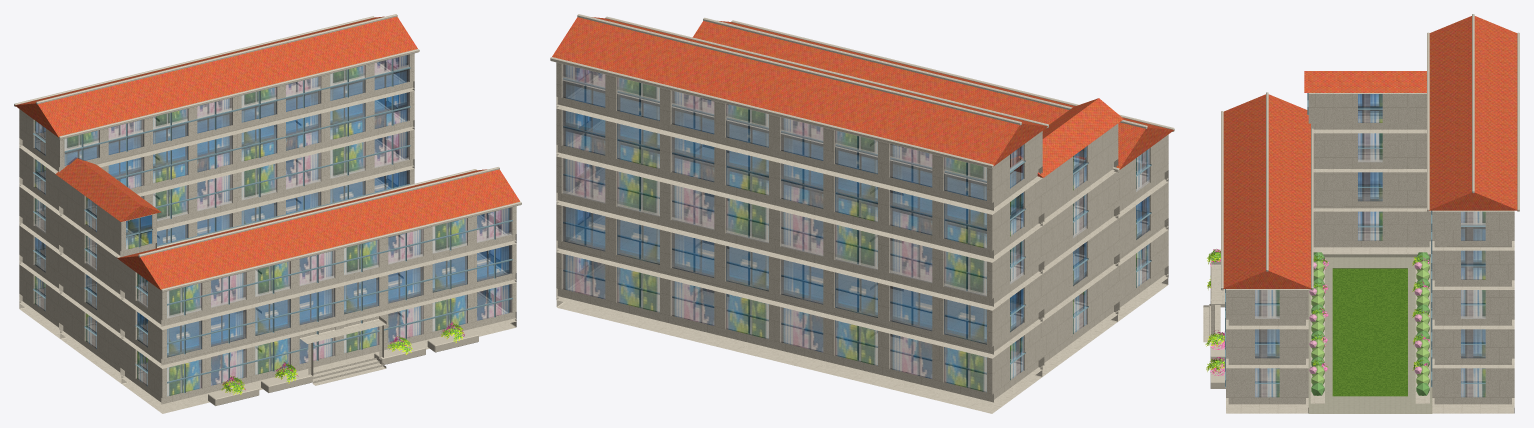
File: B05_red_roof_v2.glb
3 renders of one model, left to right at view 1: azimuth 30°, elevation 25°; view 2: azimuth 150°, elevation 25°; view 3: azimuth 270°, elevation 25°, orthographic. The views are drawn at different scales.
Visible parts, largest first — view 1: GAME_V2_Pixel_limestone, GAME_V2_Glass_reflection, GAME_V2_Terracotta, GAME_V2_Limestone, GAME_蓝灰窗框, GAME_V2_Leaf_cutout; view 2: GAME_V2_Pixel_limestone, GAME_V2_Glass_reflection, GAME_V2_Terracotta, GAME_V2_Limestone, GAME_蓝灰窗框; view 3: GAME_V2_Pixel_limestone, GAME_V2_Terracotta, GAME_grass, GAME_V2_Glass_reflection, GAME_V2_Pixel_paving, GAME_V2_Limestone, GAME_绿植高光, GAME_蓝灰窗框, GAME_绿植, GAME_V2_Leaf_cutout, GAME_V2_Blossom_cutout, GAME_花朵.
Boxes of the visible parts, x1=… form: GAME_V2_Pixel_limestone: x1=19, y1=53, x2=516, y2=413; GAME_V2_Glass_reflection: x1=34, y1=55, x2=511, y2=396; GAME_V2_Terracotta: x1=15, y1=16, x2=519, y2=290; GAME_V2_Limestone: x1=14, y1=14, x2=521, y2=405; GAME_蓝灰窗框: x1=33, y1=58, x2=512, y2=393; GAME_V2_Leaf_cutout: x1=221, y1=323, x2=463, y2=394; GAME_V2_Pixel_limestone: x1=556, y1=62, x2=1168, y2=413; GAME_V2_Glass_reflection: x1=562, y1=64, x2=1149, y2=392; GAME_V2_Terracotta: x1=552, y1=17, x2=1173, y2=177; GAME_V2_Limestone: x1=550, y1=14, x2=1174, y2=172; GAME_蓝灰窗框: x1=563, y1=69, x2=1151, y2=386; GAME_V2_Pixel_limestone: x1=1203, y1=93, x2=1514, y2=413; GAME_V2_Terracotta: x1=1223, y1=16, x2=1517, y2=288; GAME_grass: x1=1332, y1=268, x2=1407, y2=396; GAME_V2_Glass_reflection: x1=1255, y1=94, x2=1485, y2=397; GAME_V2_Pixel_paving: x1=1308, y1=254, x2=1432, y2=413; GAME_V2_Limestone: x1=1210, y1=14, x2=1519, y2=388; GAME_绿植高光: x1=1311, y1=261, x2=1429, y2=384; GAME_蓝灰窗框: x1=1225, y1=93, x2=1485, y2=387; GAME_绿植: x1=1311, y1=252, x2=1429, y2=395; GAME_V2_Leaf_cutout: x1=1205, y1=249, x2=1429, y2=372; GAME_V2_Blossom_cutout: x1=1210, y1=249, x2=1429, y2=375; GAME_花朵: x1=1309, y1=262, x2=1422, y2=373.
Size of the model in its own units: 20.35 by 12.02 by 15.37.
12 materials, 8 textured.
